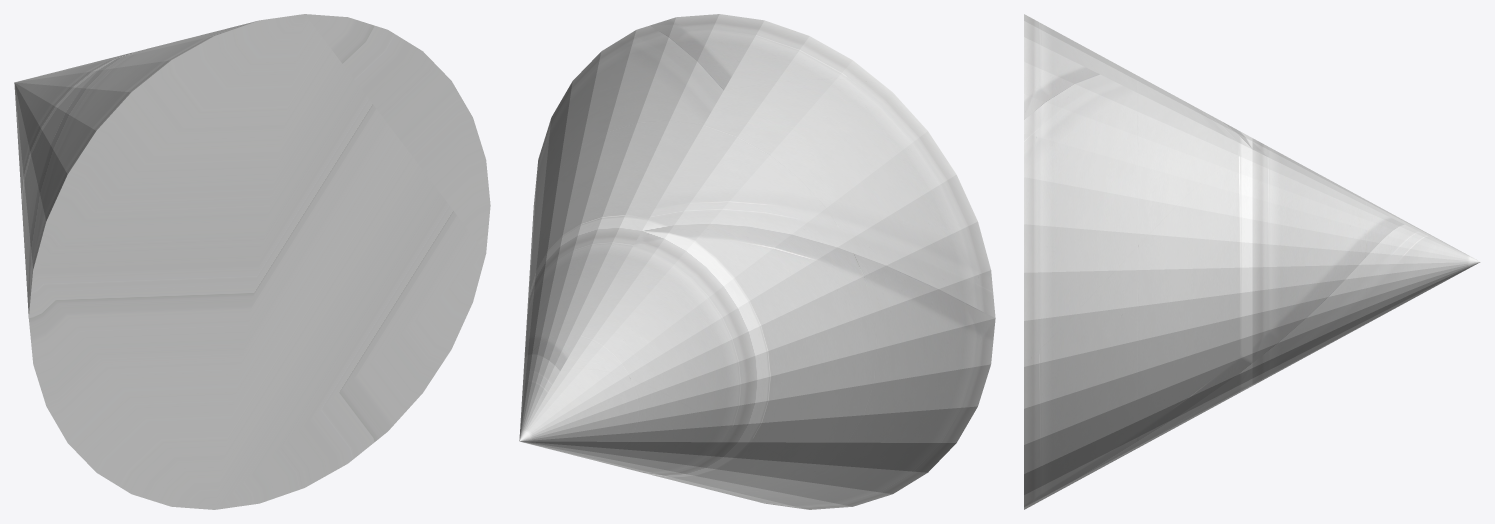
Rendered from nose_cone.glb.
3 renders of one model, left to right at view 1: azimuth 30°, elevation 25°; view 2: azimuth 150°, elevation 25°; view 3: azimuth 270°, elevation 25°, orthographic. The views are drawn at different scales.
Parts seen in each view (by area): view 1: Cone; view 2: Cone; view 3: Cone.
Boxes of the visible parts, x1,y1,x2,y2 form: Cone: (14, 14, 490, 509); Cone: (519, 14, 995, 509); Cone: (1024, 14, 1480, 509).
Bounding box in the file's own units: 0.5 × 0.5 × 0.46.
1 material, 1 textured.
